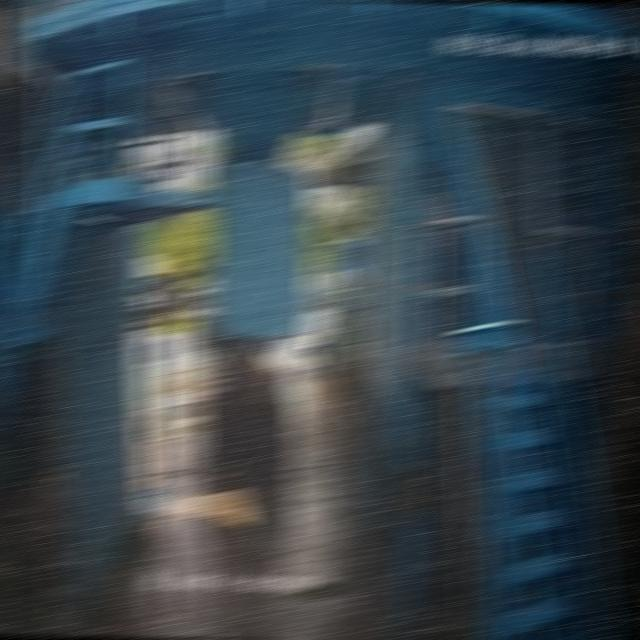cement_mixer_truck: (189, 267, 297, 472)
